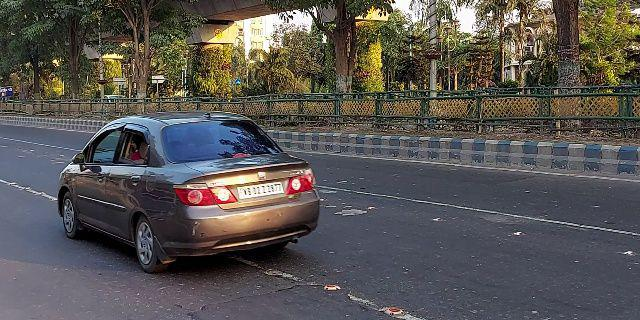Car: (53, 106, 323, 273)
